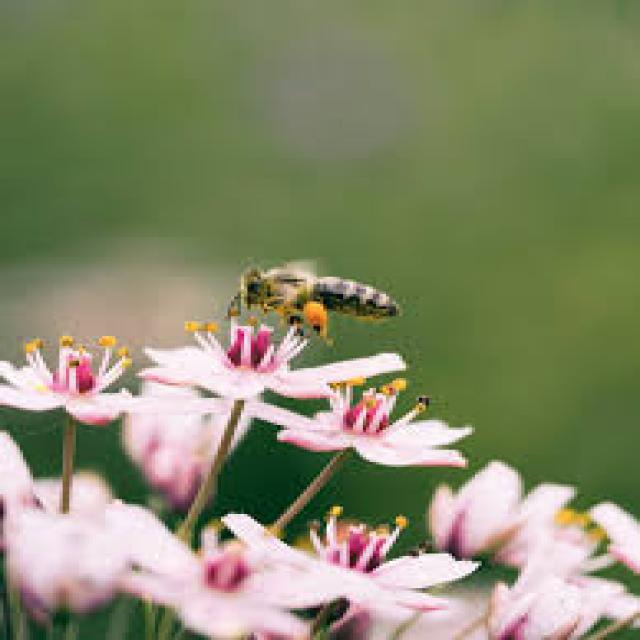Bees: (222, 260, 402, 342)
